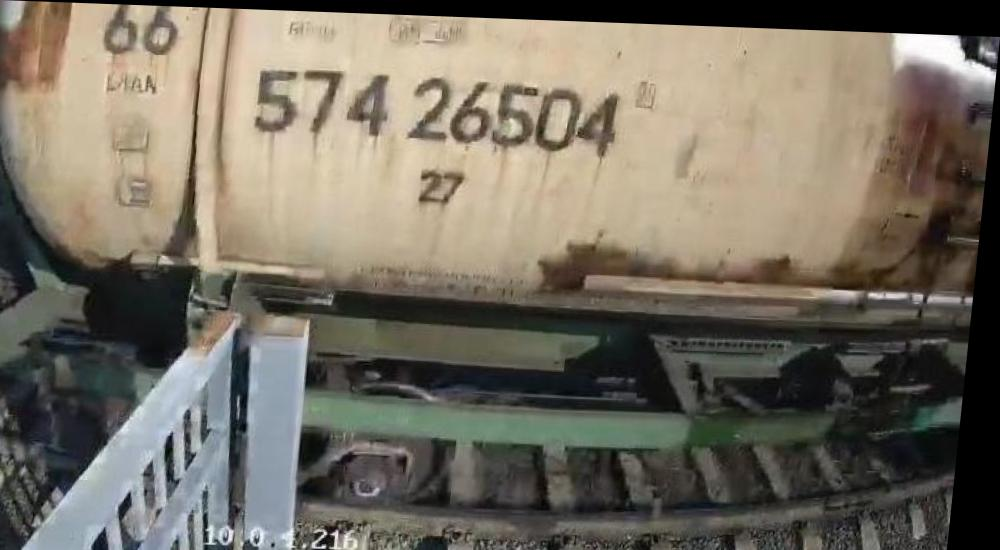Wagon-number: (251, 61, 628, 155)
